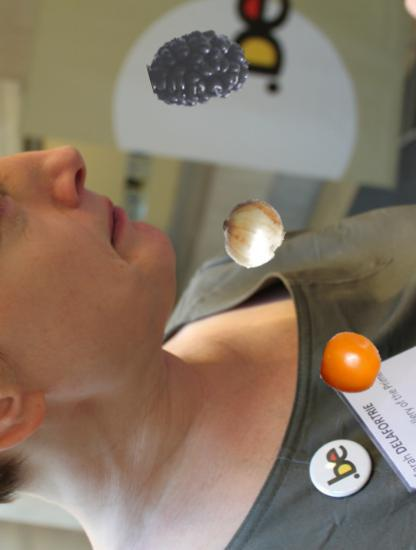Mulberry: (148, 17, 250, 119)
Onion: (218, 199, 289, 270)
Tomato: (320, 332, 384, 396)
